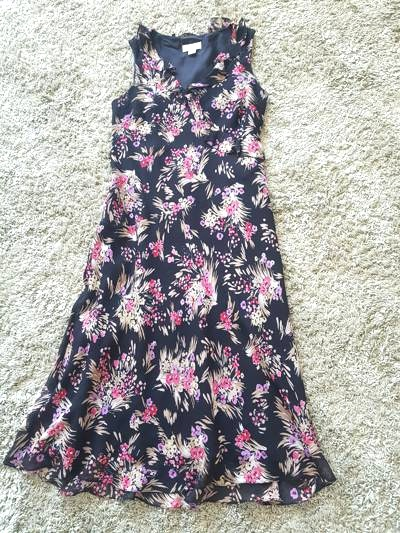Dress: (18, 15, 373, 507)
